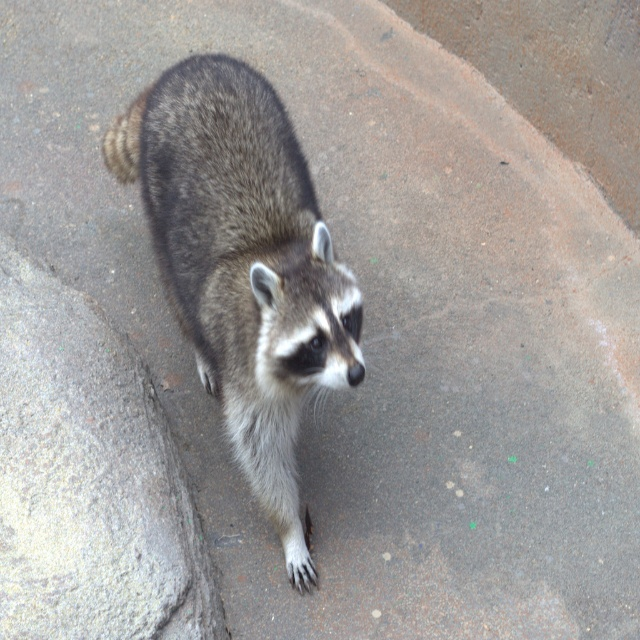Raccoon: (101, 52, 366, 595)
